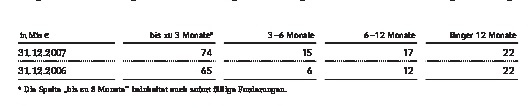table: (0, 0, 532, 108)
